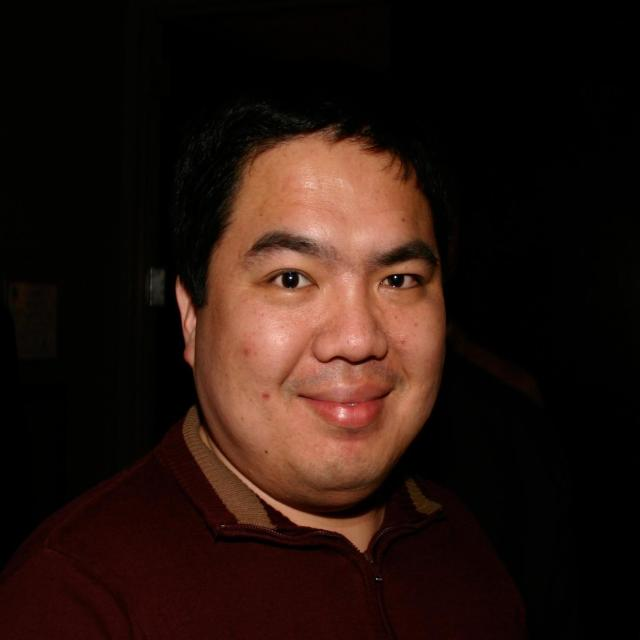no-glass: (260, 269, 428, 300)
